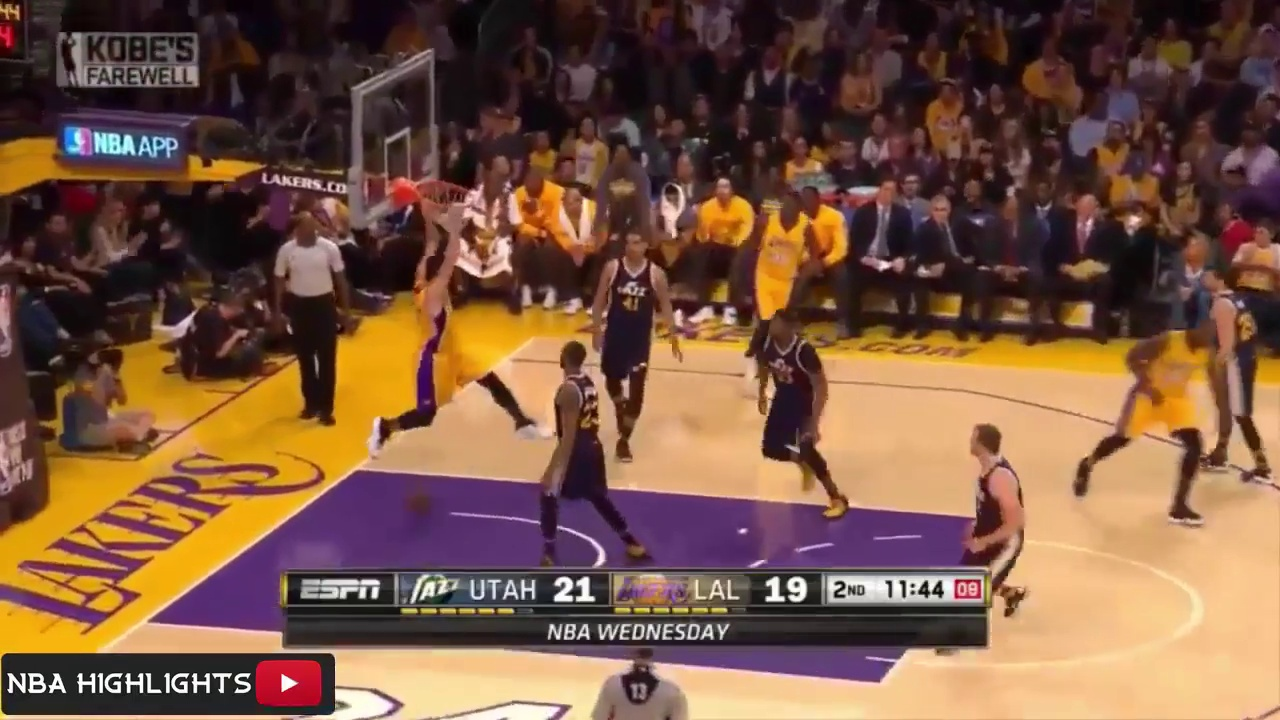jazz: (535, 337, 648, 561), (750, 309, 859, 519), (577, 228, 679, 445), (1200, 268, 1277, 482), (952, 419, 1028, 571)
lakers: (364, 221, 554, 443), (1077, 323, 1228, 525), (749, 193, 812, 354)
